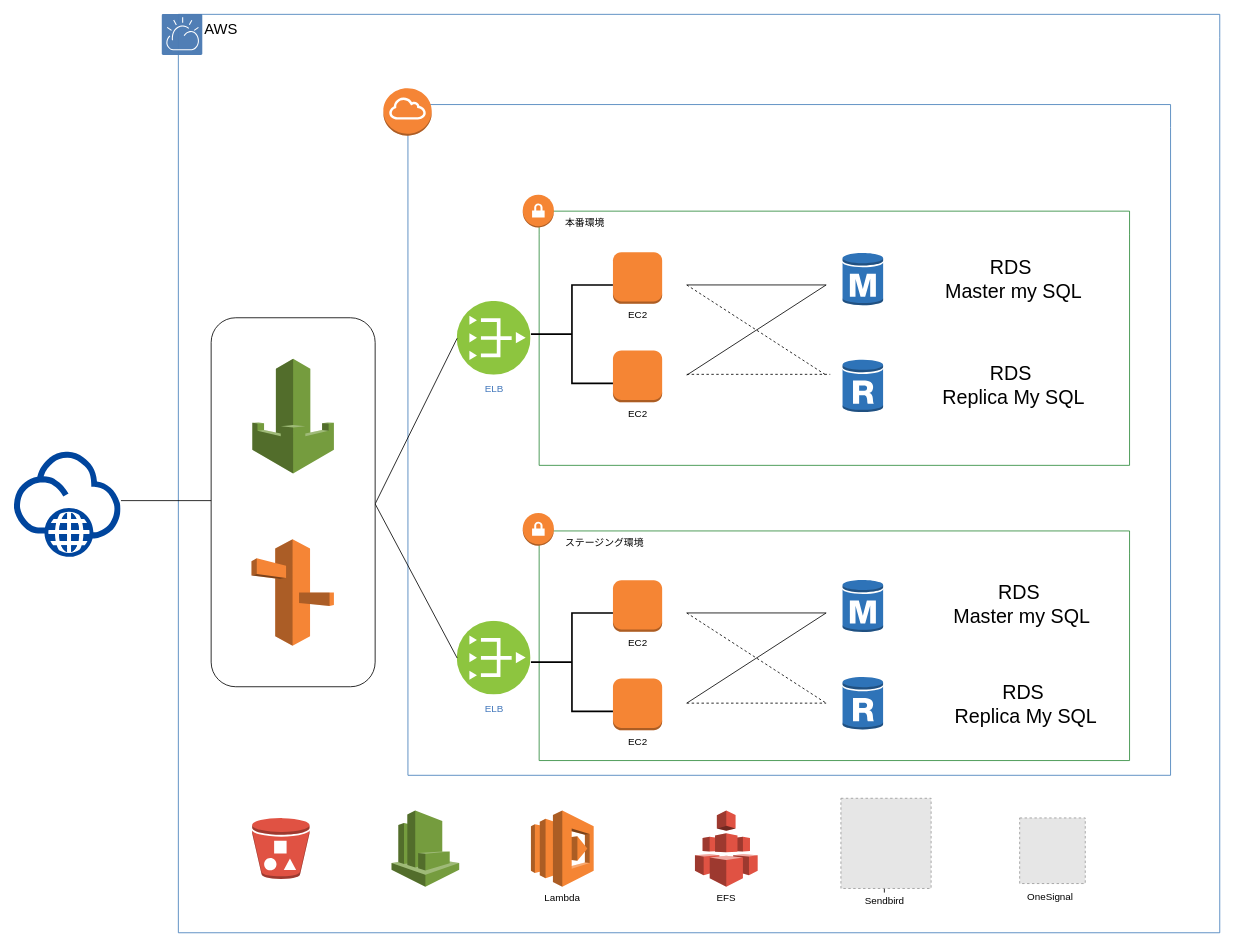
The diagram is 1234 pixels wide and 947 high, and some of its shapes have lost their labels. Grey dashed boxes stand in for pictures. The box of each missing label's shape, as (x1, y1, x2, y2) in pixels:
Cloundwatch: (391, 810, 459, 887)
Internet: (14, 451, 121, 558)
Route 53: (251, 538, 334, 646)
S3: (251, 817, 310, 879)
VPC: (407, 104, 1171, 775)
WAF: (251, 358, 334, 474)
